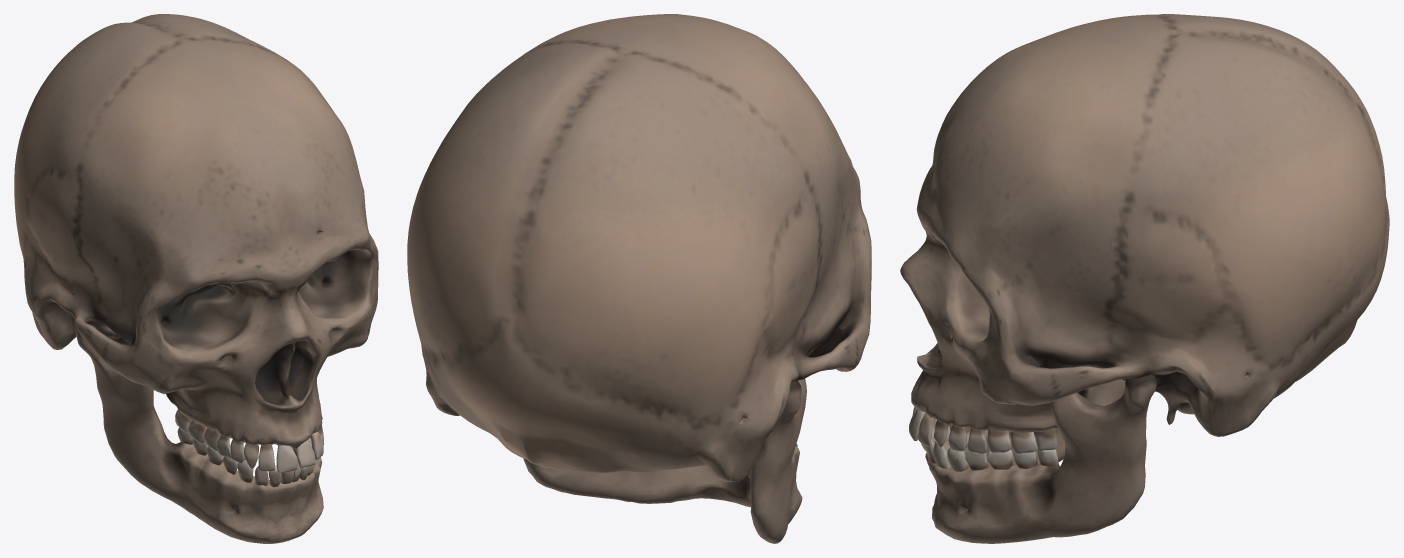
Rendered from skull.fbx.
3 renders of one model, left to right at view 1: azimuth 30°, elevation 25°; view 2: azimuth 150°, elevation 25°; view 3: azimuth 270°, elevation 25°, orthographic. The views are drawn at different scales.
Visible parts, largest first — view 1: Object_2; view 2: Object_2; view 3: Object_2.
Part boxes in pixels (x1,y1,x2,y2): Object_2: (14,14,378,543); Object_2: (407,14,871,543); Object_2: (900,14,1389,543).
Bounding box in the file's own units: 134 × 200 × 179.
Materials: 1 (1 with a texture image).
